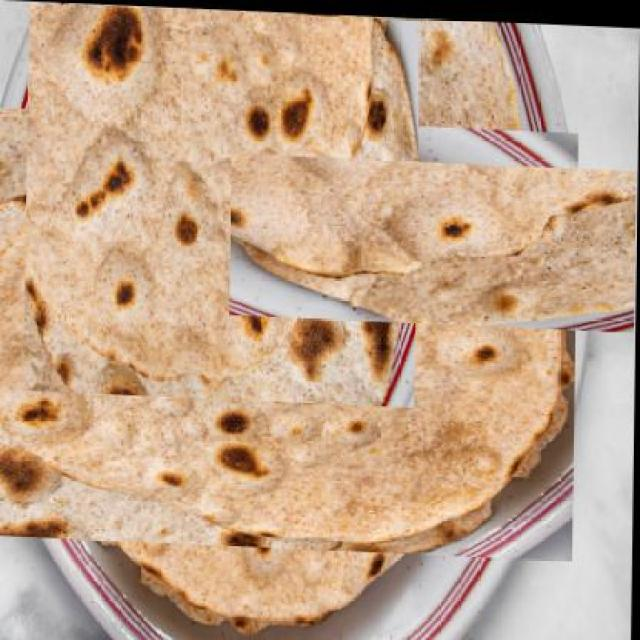chapati: (15, 64, 538, 599), (24, 1, 422, 405), (299, 83, 610, 400)
